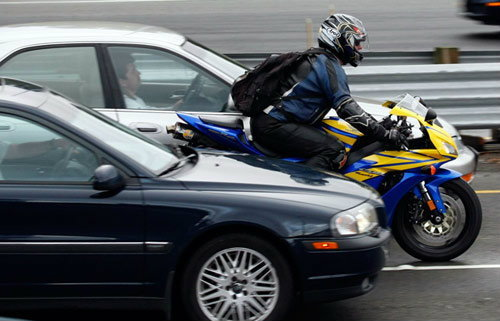helmet: (317, 12, 372, 67)
motorcycle: (176, 93, 487, 262)
